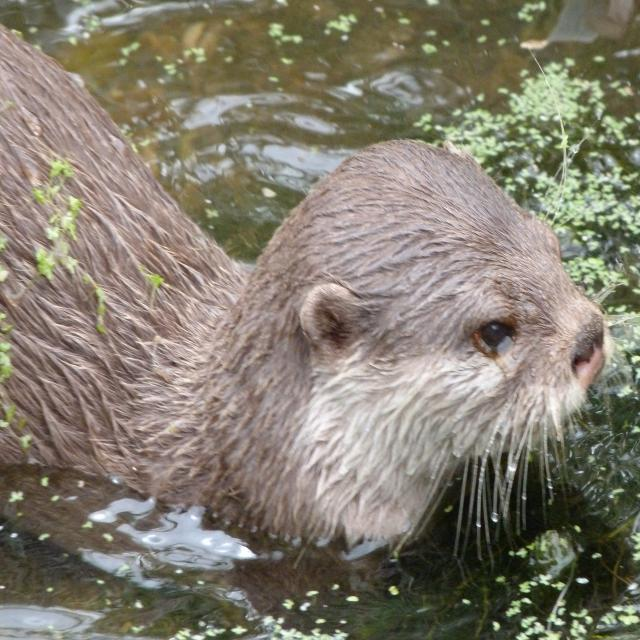otter: (1, 25, 604, 552)
